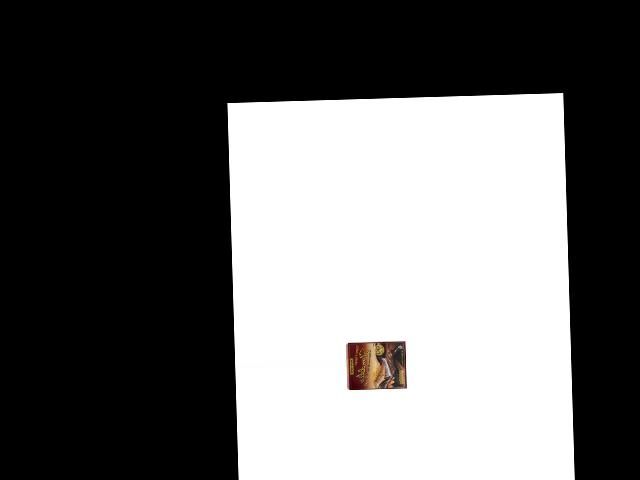chocolate: (345, 341, 407, 389)
